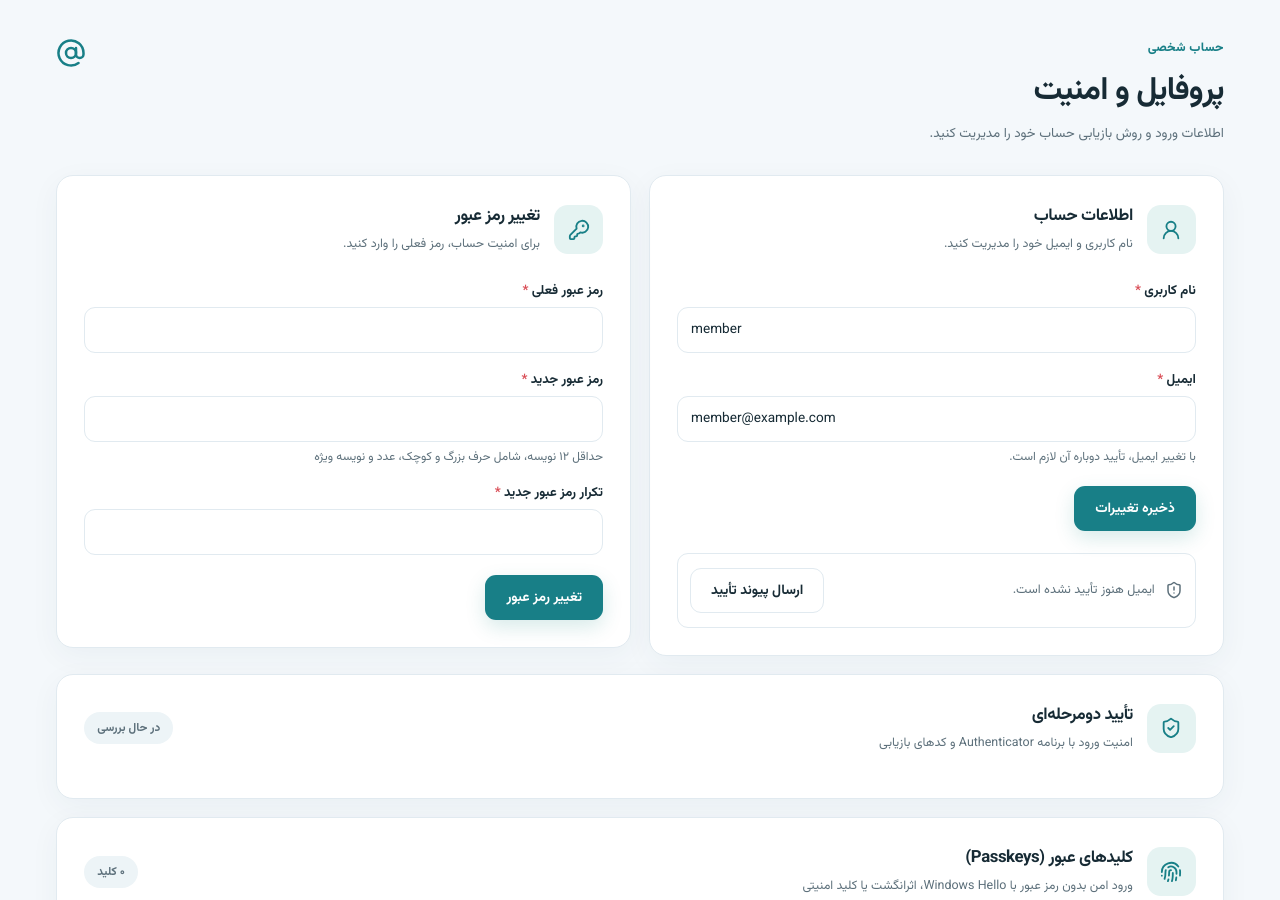
Test case: AccountPage › rejects mismatched password confirmation before hitting API
The image size is (1280, 900).
Expected: the heading "تغییر رمز عبور" is shown, [455,203,540,229]
In the password field labelled "رمز عبور فعلی *": point(344, 330) [84,306,603,352], type "old"
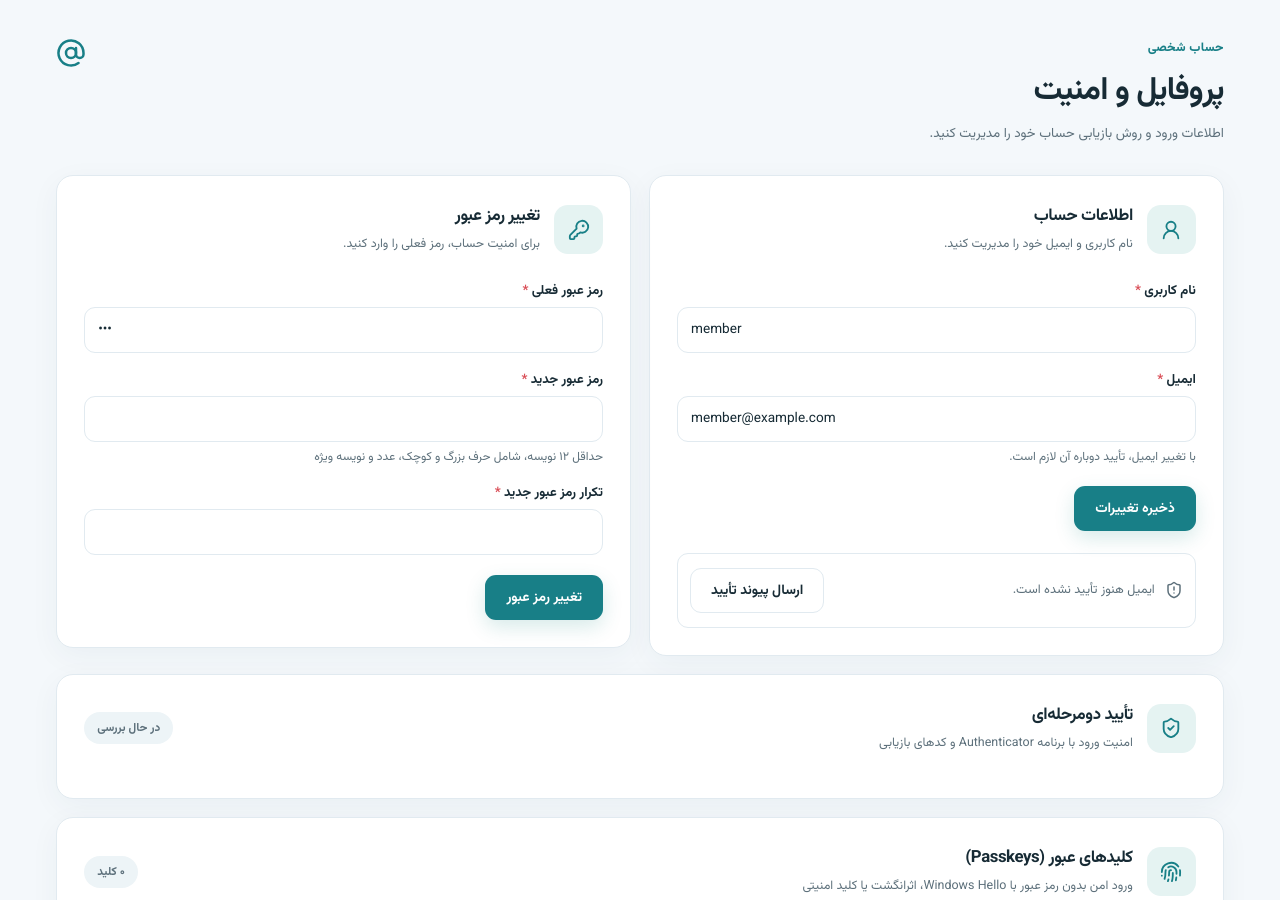
In the password field labelled "رمز عبور جدید *": point(344, 418) [84,396,603,442], type "Strong-Testing-123!"
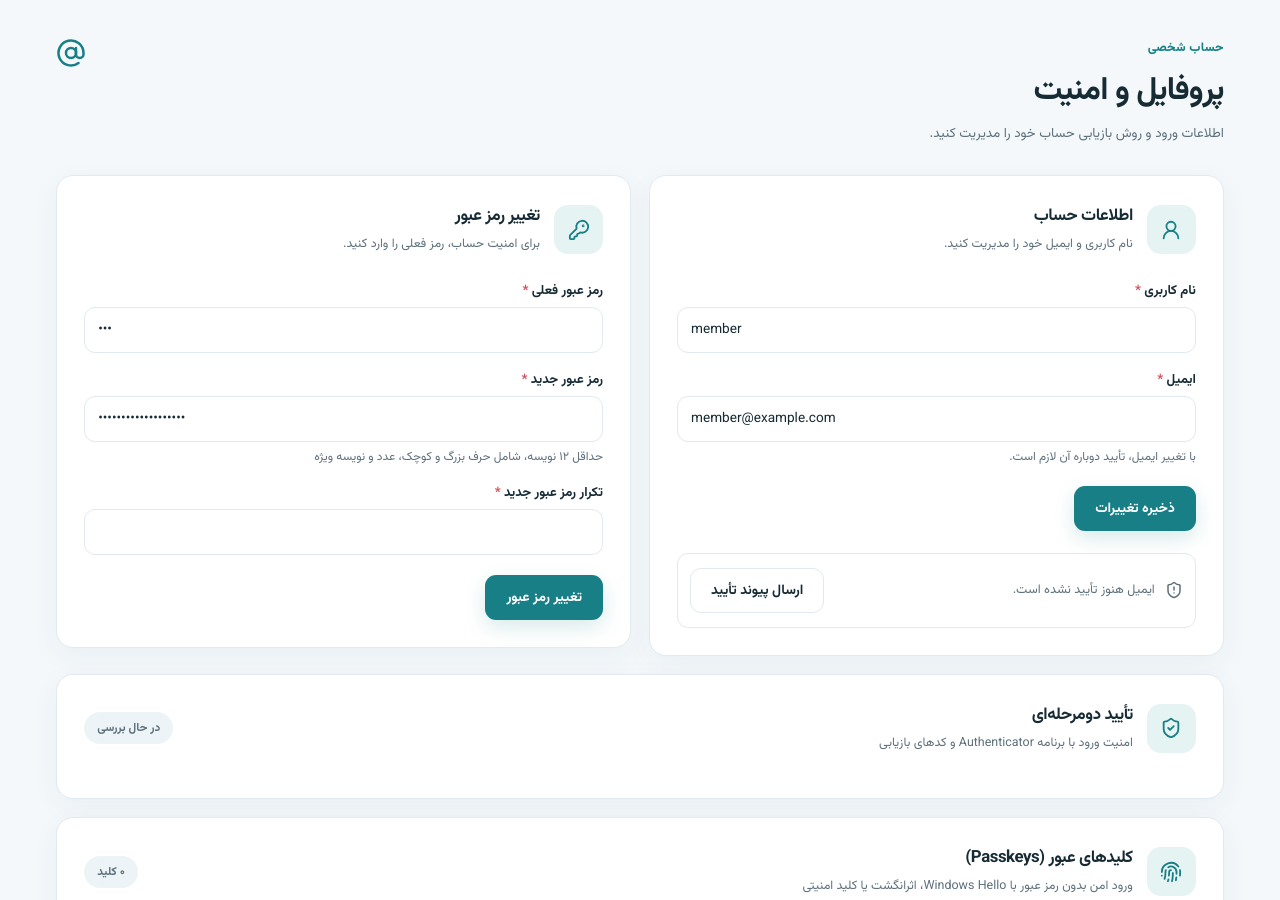
In the password field labelled "تکرار رمز عبور جدید *": point(344, 532) [84,508,603,554], type "Mismatch-Testing-123!"
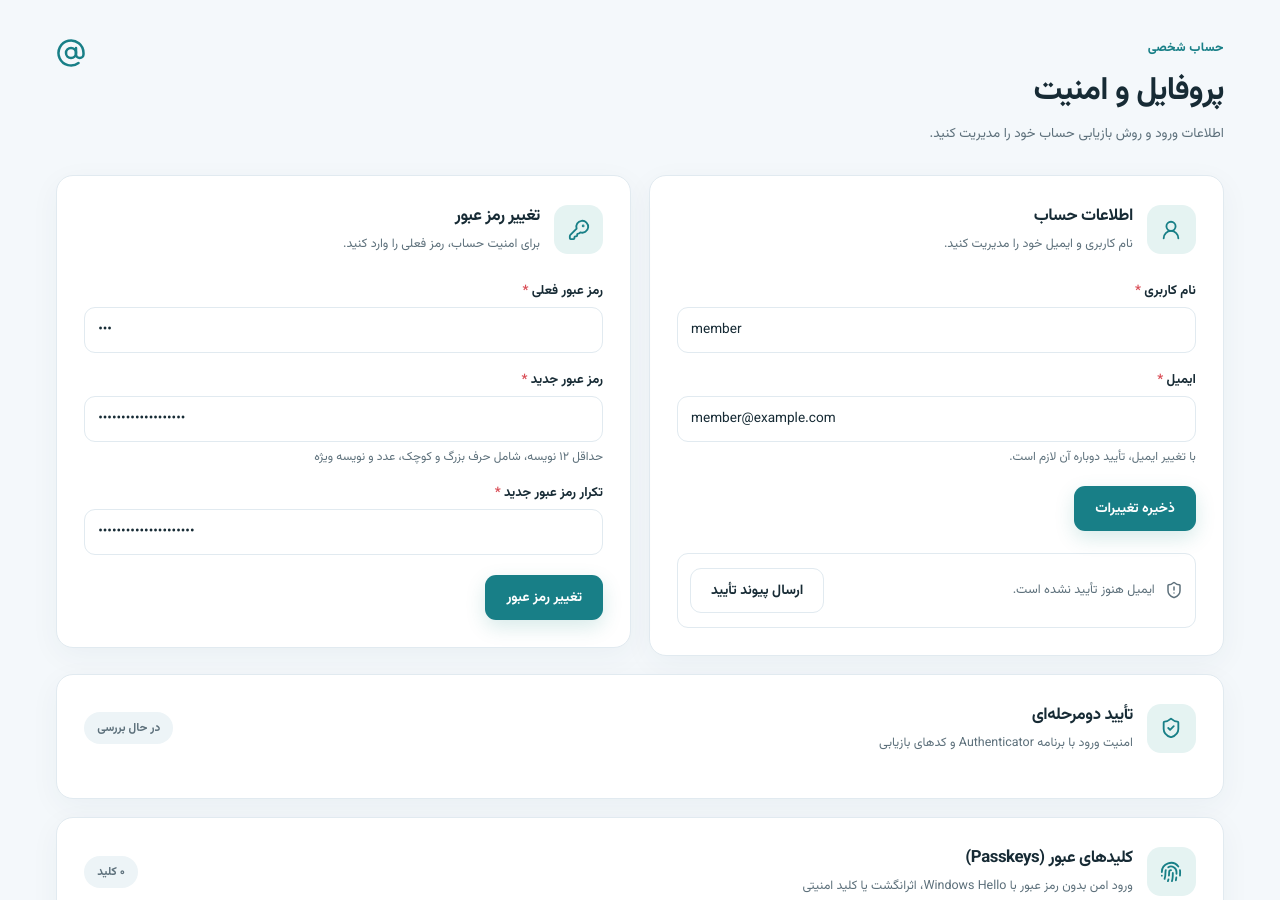
Click the button "تغییر رمز عبور": point(544, 597) [485,574,603,620]
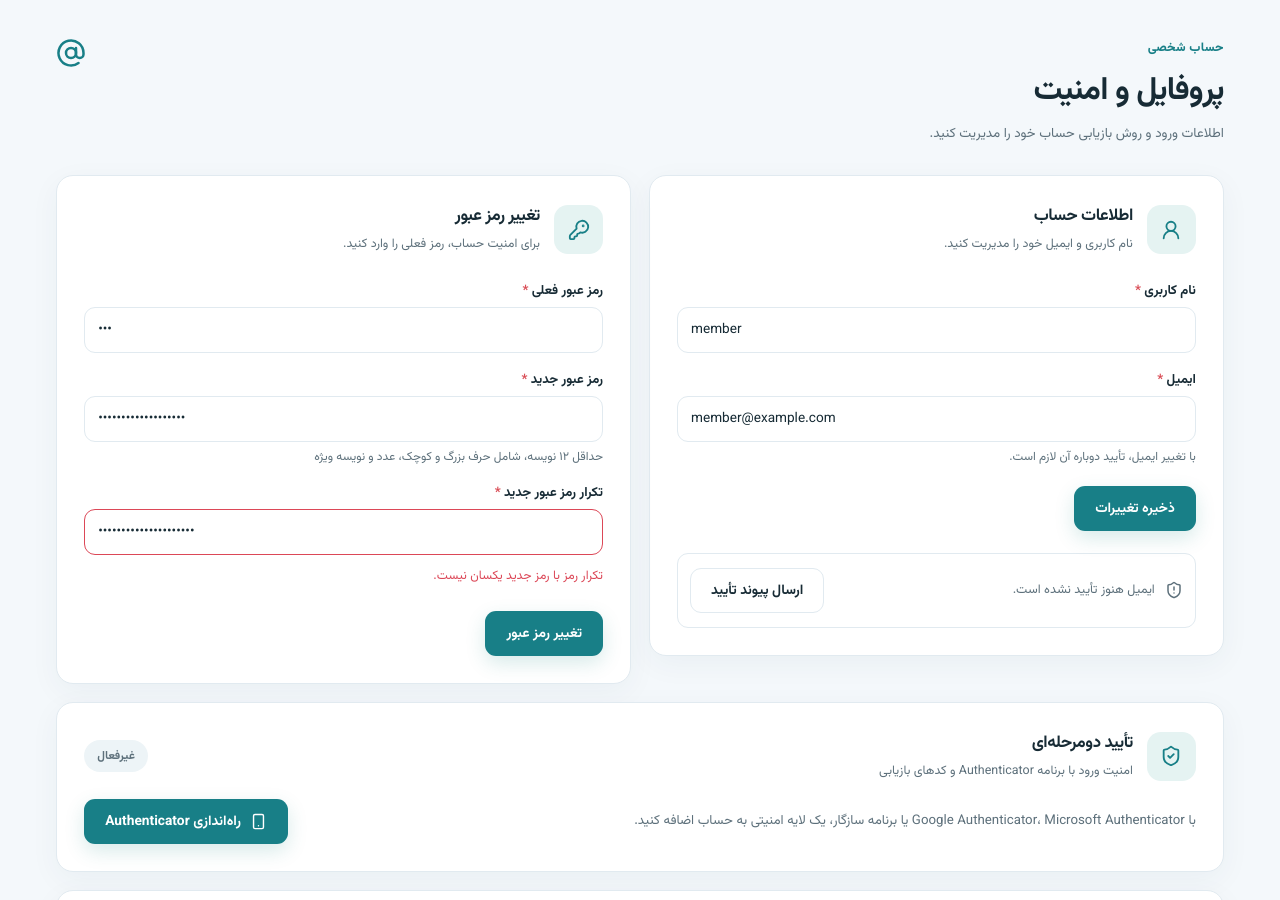
Now the text "تکرار رمز با رمز جدید یکسان نیست." is shown, box [433,566,603,586]
